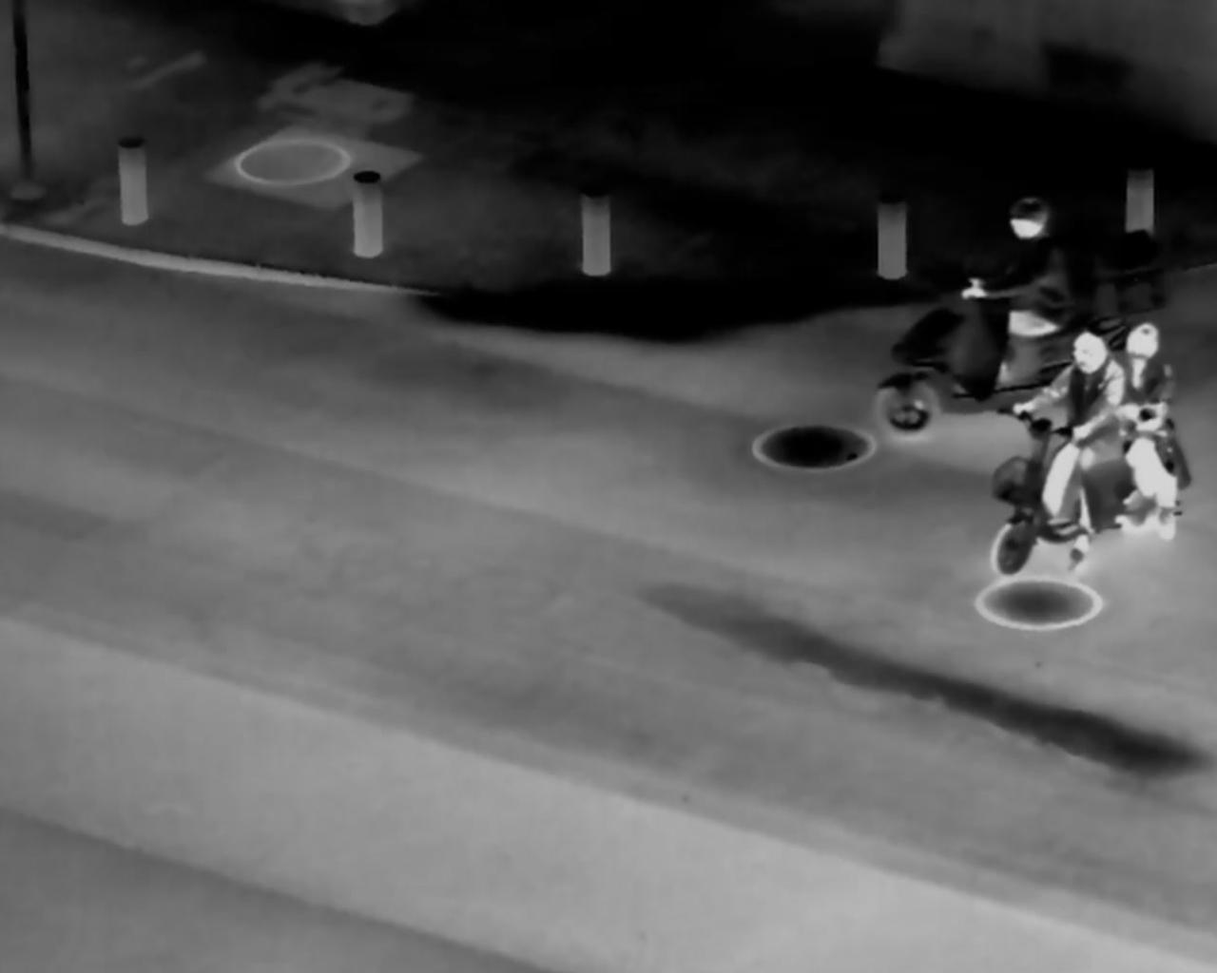person: (961, 187, 1079, 398), (1016, 327, 1120, 550), (1109, 311, 1186, 556)
